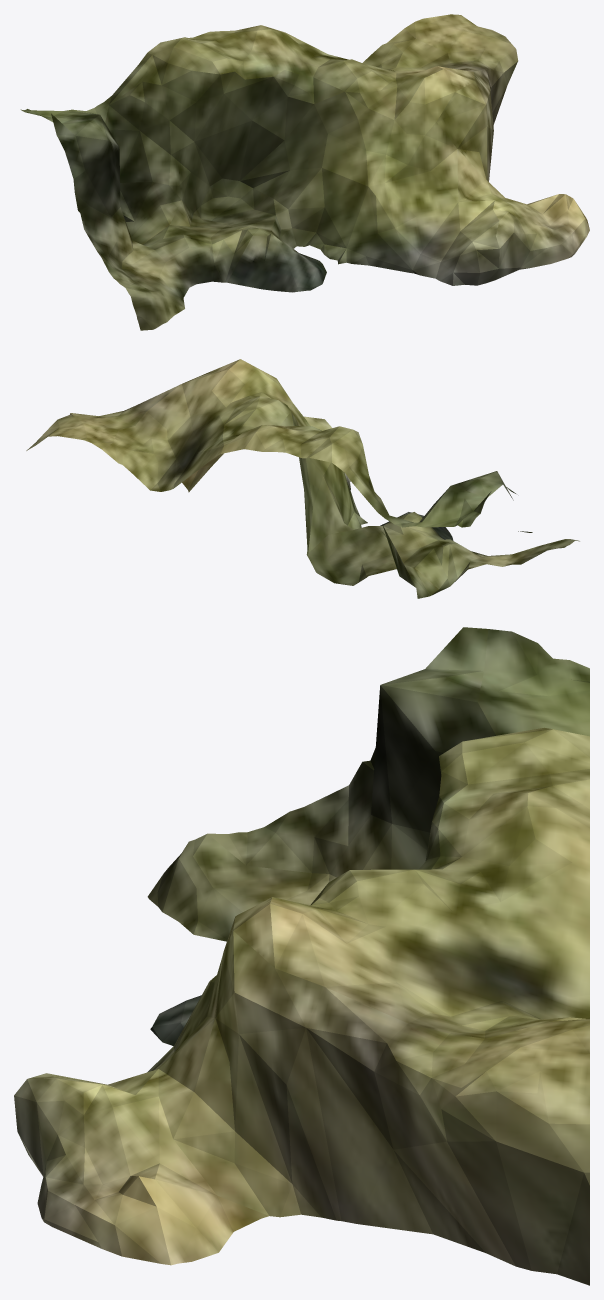
The picture shows the model from 3 angles, top to bottom: view 1: azimuth 30°, elevation 25°; view 2: azimuth 150°, elevation 25°; view 3: azimuth 270°, elevation 25°; orthographic projection. The views are drawn at different scales.
Size of the model in its own units: 3.93 by 1.31 by 2.36.
Materials: 1 (1 with a texture image).
